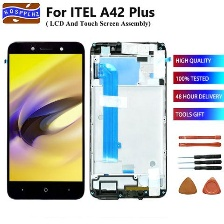phone: (5, 35, 87, 203), (87, 37, 169, 201)
